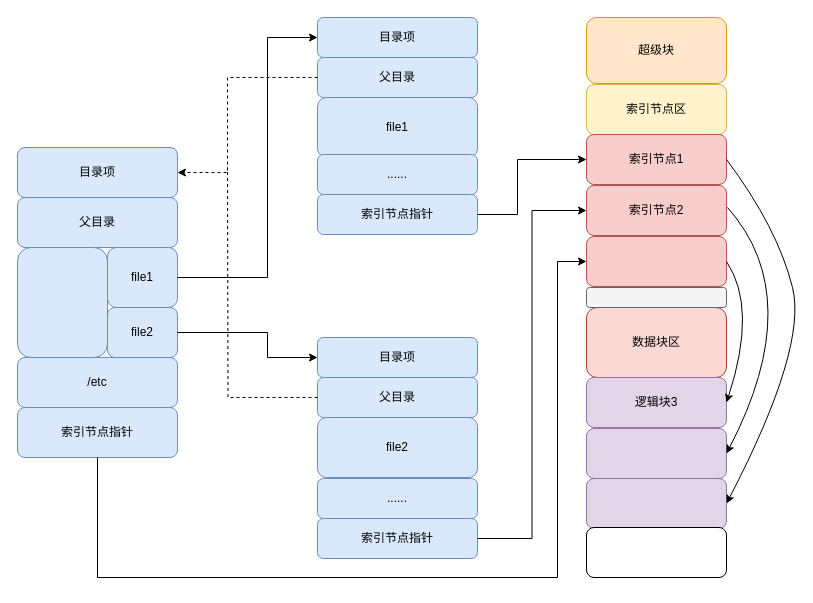
The diagram is 813 pixels wide and 603 high, and some of its shapes have lost their labels. Each missing label, with the centre of its shape:
子目录/ 文件列表: point 62,302
索引节点3: point 656,261
逻辑块1: point 656,503
逻辑块2: point 656,453
